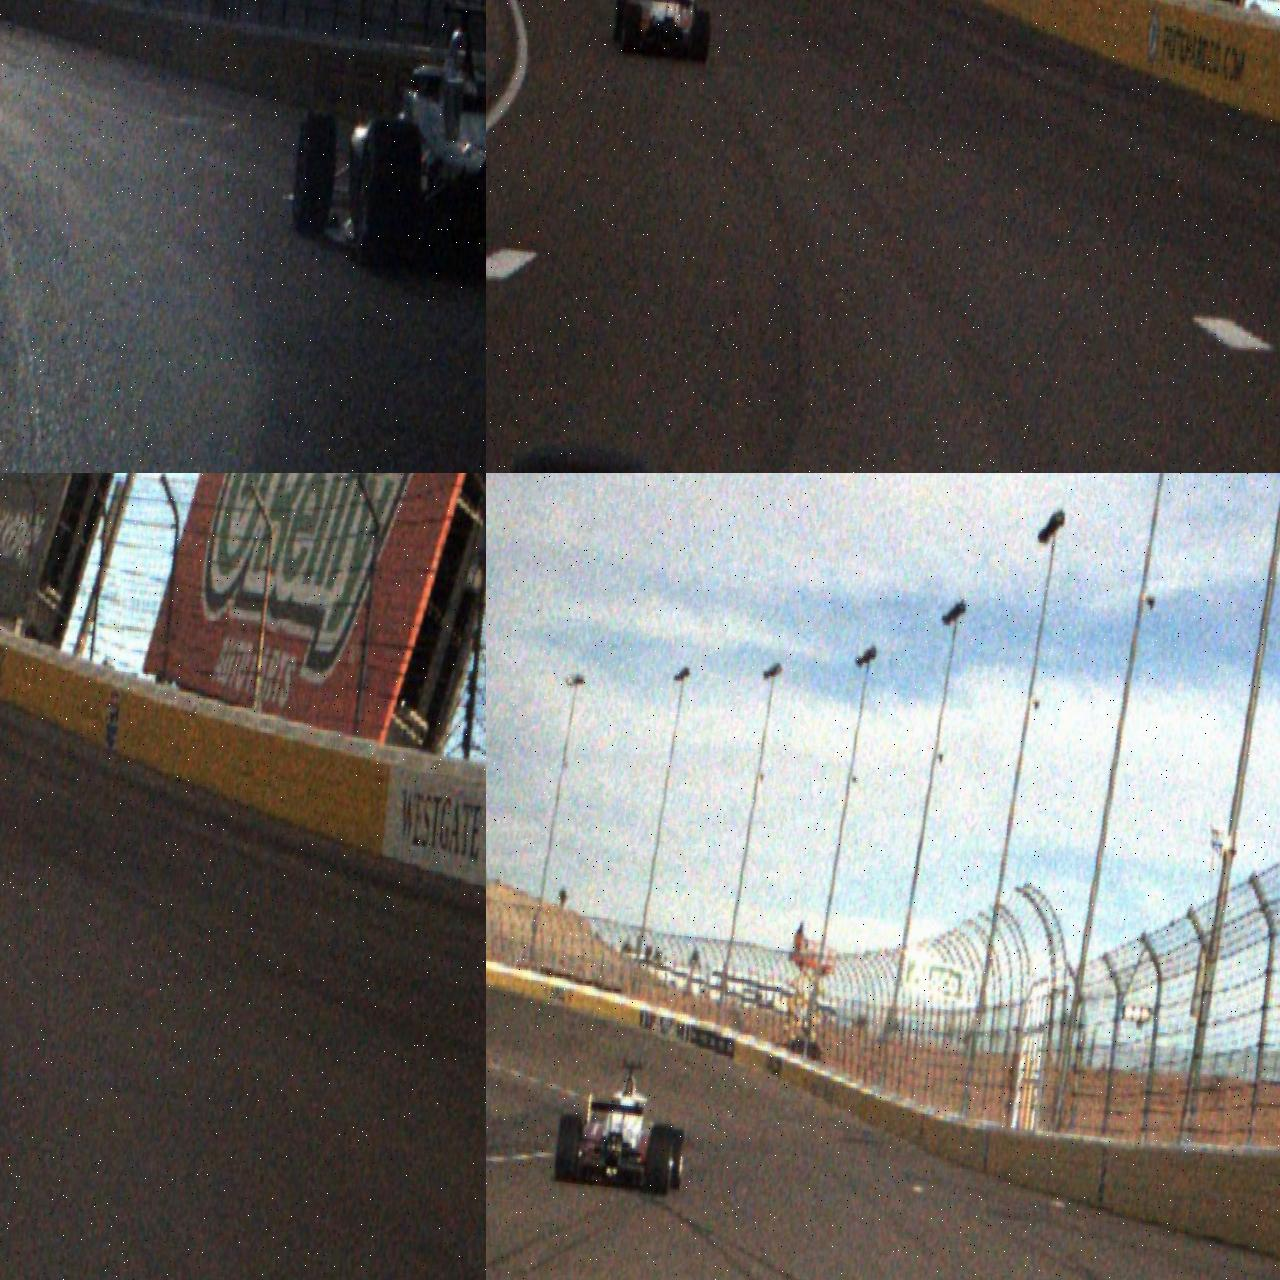AV: (276, 0, 486, 305), (553, 1054, 693, 1196), (608, 0, 719, 66)
Wheel: (351, 118, 424, 272), (290, 110, 341, 239), (644, 1123, 676, 1195), (554, 1112, 584, 1185), (662, 1129, 686, 1191), (620, 2, 644, 59), (690, 9, 714, 66), (610, 0, 631, 45)
